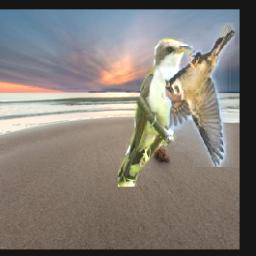Cuckoo: (118, 37, 193, 187)
Sparrow: (165, 23, 235, 167)
